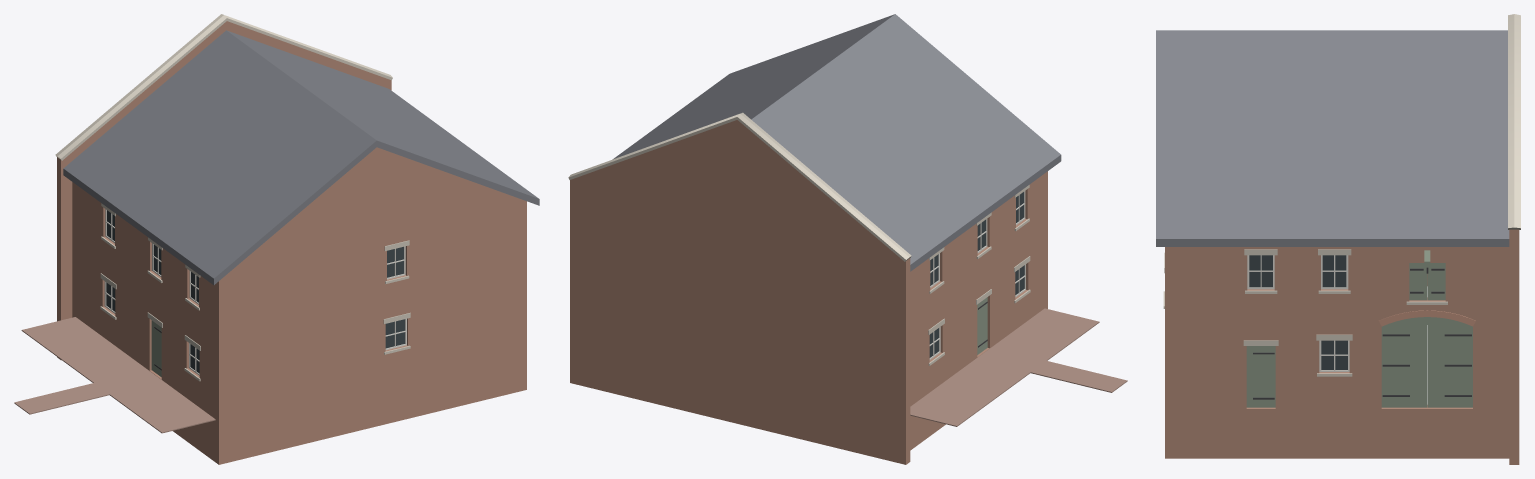
Rendered from house_2123_prairie_coach_house__as_standing_1904.glb.
3 views of the same model, side by side, from view 1: azimuth 30°, elevation 25°; view 2: azimuth 150°, elevation 25°; view 3: azimuth 270°, elevation 25° (orthographic). The views are drawn at different scales.
Parts seen in each view (by area): view 1: house_2123_prairie_coach_house__as_standing_1904; view 2: house_2123_prairie_coach_house__as_standing_1904; view 3: house_2123_prairie_coach_house__as_standing_1904.
Part boxes in pixels (x1,y1,x2,y2): house_2123_prairie_coach_house__as_standing_1904: (14,14,539,464); house_2123_prairie_coach_house__as_standing_1904: (568,14,1127,464); house_2123_prairie_coach_house__as_standing_1904: (1156,14,1520,464).
Bounding box in the file's own units: 20.61 × 12.94 × 12.01.
